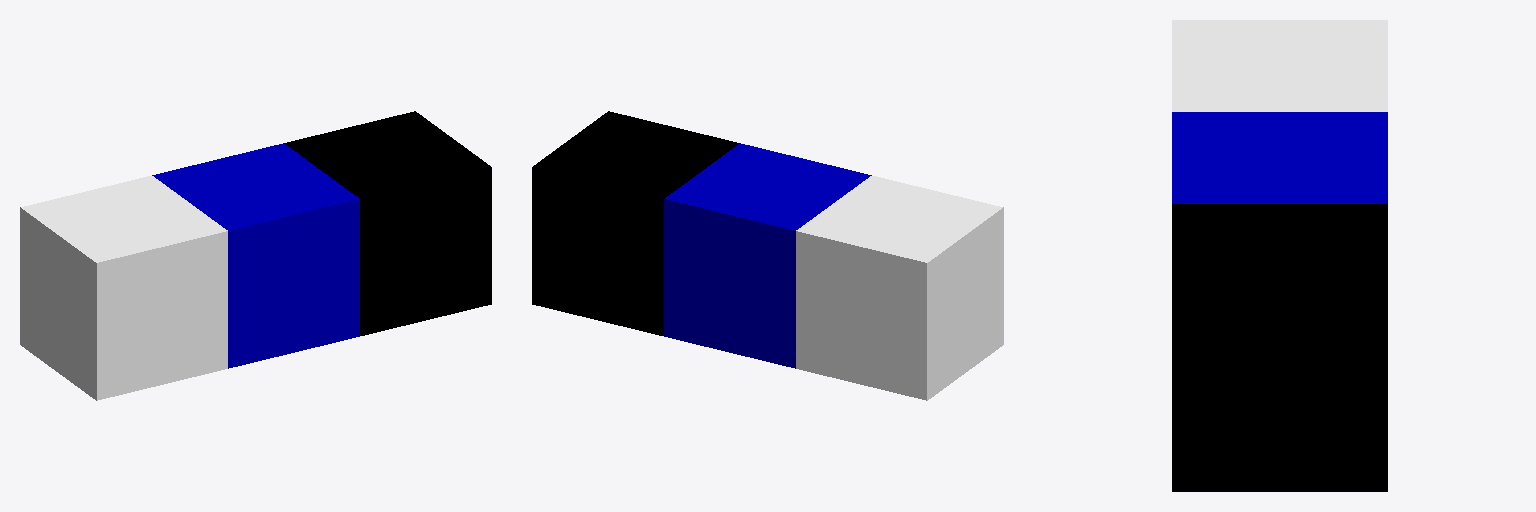
The robot description file, URDF, robot "visual":
<?xml version="1.0"?>
<robot name="visual">

  <material name="blue">
    <color rgba="0 0 0.8 1"/>
  </material>
  <material name="black">
    <color rgba="0 0 0 1"/>
  </material>
  <material name="white">
    <color rgba="1 1 1 1"/>
  </material>

  <link name="middle_cube">
    <visual>
      <geometry>
        <box size="0.1 0.1 0.1"/>
      </geometry>
      <origin rpy="0 0 0" xyz="2.0 0 0.05"/>
      <material name="blue"/>
    </visual>
    <collision>
      <geometry>
        <box size="0.1 0.1 0.1"/>
      </geometry>
    </collision>
    <inertial>
      <mass value="0.1"/>
      <inertia ixx="0.0000416" ixy="0.0" ixz="0.0" iyy="0.0000416" iyz="0.0" izz="0.0000416"/>
    </inertial>
  </link>

  <link name="left_cube">
    <visual>
      <geometry>
        <box size="0.1 0.1 0.1"/>
      </geometry>
      <origin rpy="0 0 0" xyz="2.0 0 0.05"/>
      <material name="white"/>
    </visual>
    <collision>
      <geometry>
        <box size="0.1 0.1 0.1"/>
      </geometry>
    </collision>
    <inertial>
      <mass value="0.1"/>
      <inertia ixx="0.0000416" ixy="0.0" ixz="0.0" iyy="0.0000416" iyz="0.0" izz="0.0000416"/>
    </inertial>
  </link>

  <!-- Let’s start by examining the joint’s origin. It is defined in terms of the parent’s reference frame. -->
  <joint name="left_to_middle" type="fixed">
    <parent link="middle_cube"/>
    <child link="left_cube"/>
    <origin xyz="-0.1 0 0"/>
  </joint>

  <link name="right_cube">
    <visual>
      <geometry>
        <box size="0.1 0.1 0.1"/>
      </geometry>
      <origin rpy="0 0 0" xyz="2.0 0 0.05"/>
      <material name="black"/>
    </visual>
    <collision>
      <geometry>
        <box size="0.1 0.1 0.1"/>
      </geometry>
    </collision>
    <inertial>
      <mass value="0.1"/>
      <inertia ixx="0.0000416" ixy="0.0" ixz="0.0" iyy="0.0000416" iyz="0.0" izz="0.0000416"/>
    </inertial>
  </link>

  <!-- Let’s start by examining the joint’s origin. It is defined in terms of the parent’s reference frame. -->
  <joint name="right_to_middle" type="fixed">
    <parent link="middle_cube"/>
    <child link="right_cube"/>
    <origin xyz="0.1 0 0"/>
  </joint>

</robot>

--- What the picture shows (computed from the rendered views, not written in the file) ---
Views: 3 orthographic renders of the robot side by side, from view 1: azimuth 30°, elevation 25°; view 2: azimuth 150°, elevation 25°; view 3: azimuth 270°, elevation 25°.
Model visual with 3 links and 2 joints (2 fixed), rooted at middle_cube, posed all joints at 0.
Links seen in each view (by area): view 1: left_cube, middle_cube, right_cube; view 2: left_cube, middle_cube, right_cube; view 3: right_cube, middle_cube, left_cube.
Link boxes in pixels (x1,y1,x2,y2): left_cube: (20,176,227,400); middle_cube: (152,143,359,368); right_cube: (284,111,491,335); left_cube: (796,176,1003,400); middle_cube: (664,143,871,368); right_cube: (532,111,739,335); right_cube: (1172,204,1387,491); middle_cube: (1172,112,1387,203); left_cube: (1172,20,1387,111).
Size in the robot's own frame: 0.3 by 0.1 by 0.1 metres.
Geometry: primitives only (box / cylinder / sphere), no mesh files.
